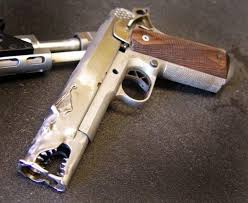gun: (19, 5, 234, 189)
